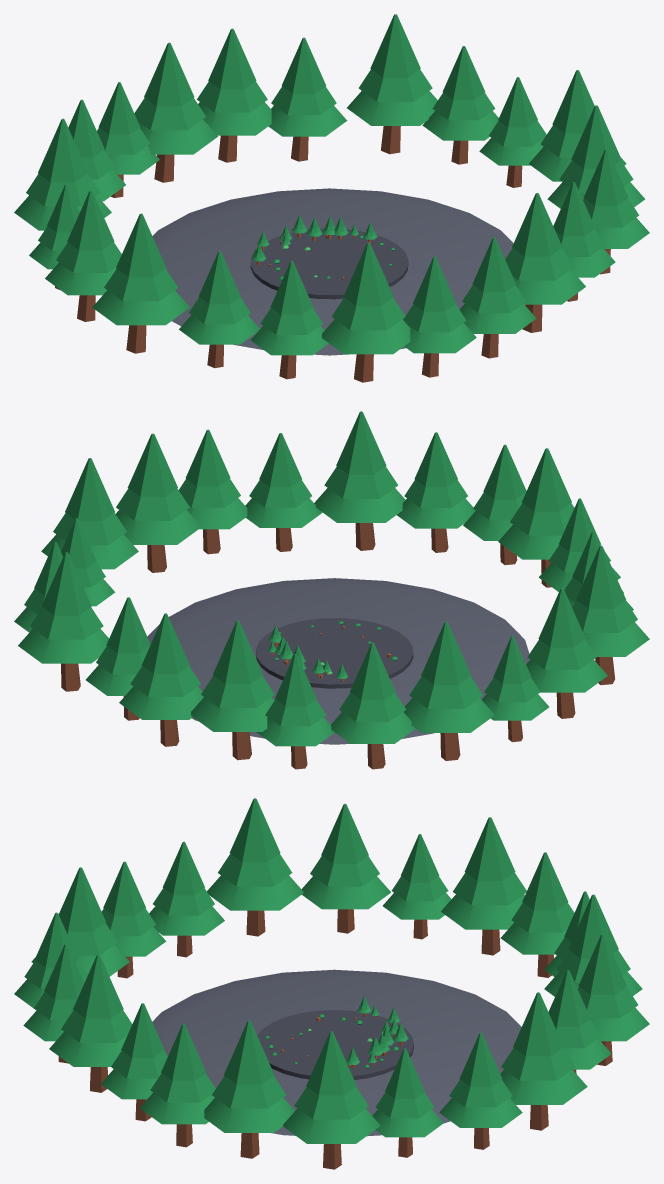
File: eyrie_hawk.glb
3 renders of one model, top to bottom at view 1: azimuth 30°, elevation 25°; view 2: azimuth 150°, elevation 25°; view 3: azimuth 270°, elevation 25°, orthographic.
Visible parts, largest first — view 1: EyrieHawkGround; view 2: EyrieHawkGround; view 3: EyrieHawkGround.
Part boxes in pixels (box(x1,y1,x2,y2)): EyrieHawkGround: box(14, 14, 649, 382); EyrieHawkGround: box(14, 411, 649, 769); EyrieHawkGround: box(14, 798, 649, 1169).
Bounding box in the file's own units: 48.3 × 11.9 × 47.92.
Materials: 1 (1 with a texture image).
